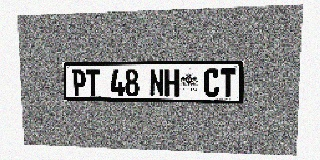4: (110, 69, 125, 96)
8: (125, 69, 139, 96)
C: (204, 69, 220, 97)
H: (164, 69, 179, 97)
N: (149, 69, 164, 97)
P: (72, 69, 86, 96)
T: (220, 68, 236, 97), (86, 69, 100, 96)
